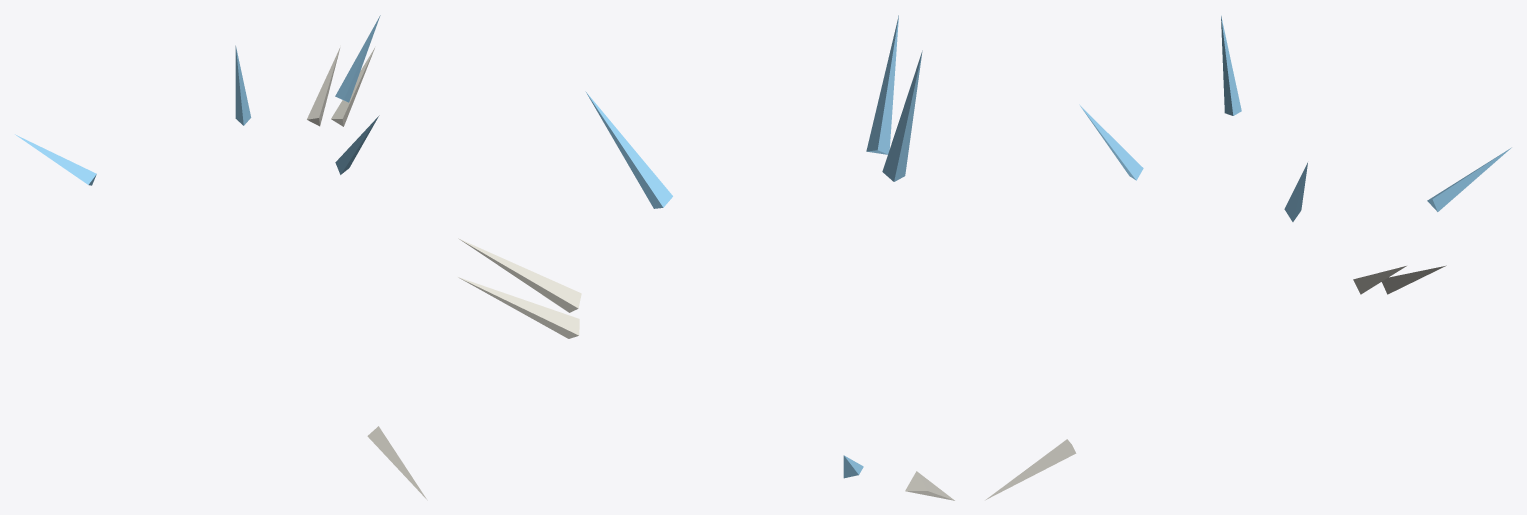
Rendered from frame_3.glb.
3 views of the same model, side by side, from view 1: azimuth 30°, elevation 25°; view 2: azimuth 150°, elevation 25°; view 3: azimuth 270°, elevation 25° (orthographic). The views are drawn at different scales.
Parts seen in each view (by area): view 1: effect_electric_spark_frame_3; view 2: effect_electric_spark_frame_3; view 3: effect_electric_spark_frame_3.
Part boxes in pixels (<box>): effect_electric_spark_frame_3: <box>15,15,427,500</box>; effect_electric_spark_frame_3: <box>458,15,954,500</box>; effect_electric_spark_frame_3: <box>985,15,1511,500</box>.
Bounding box in the file's own units: 4.86 × 5.89 × 6.41.
